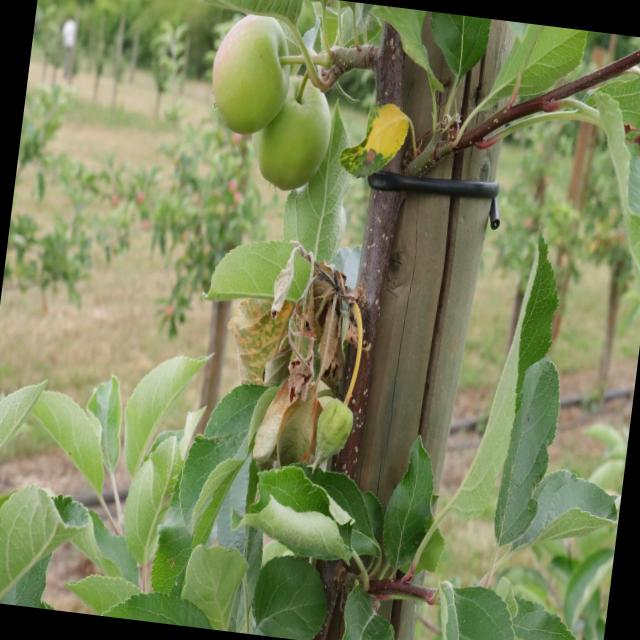-FireBlight-: (262, 240, 379, 388)
